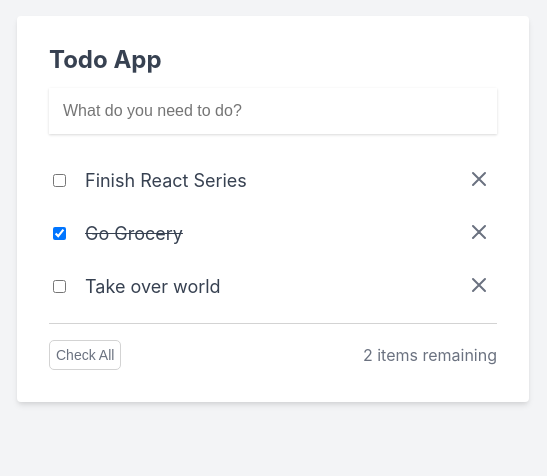
Test: can add todos
The image size is (547, 476).
Type "New Todo" into the field with placeholder "What do you need to do?" at (273, 111), box [49,88,497,134]
Then press Enter
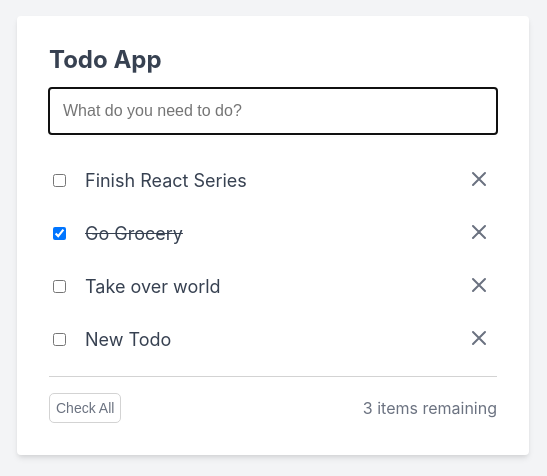
Expected: the text "New Todo" is shown, [85,330,171,348]
